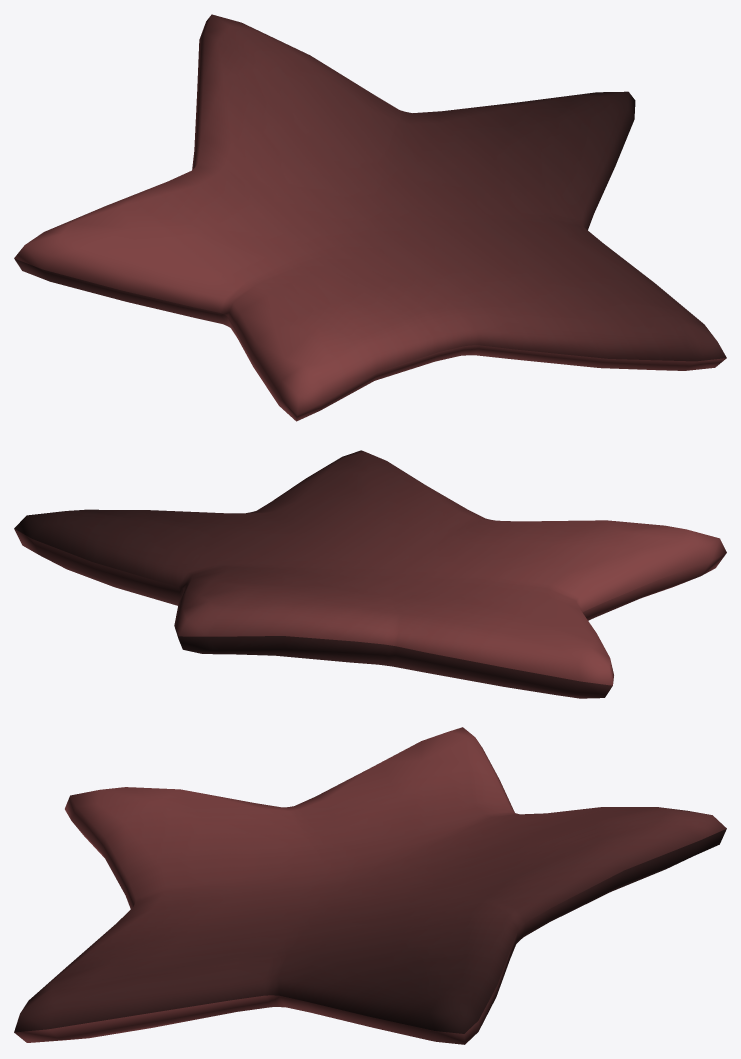
The model's file is star.glb.
The picture shows the model from 3 angles, top to bottom: view 1: azimuth 30°, elevation 25°; view 2: azimuth 150°, elevation 25°; view 3: azimuth 270°, elevation 25°; orthographic projection. The views are drawn at different scales.
Visible parts, largest first — view 1: cc_star1; view 2: cc_star1; view 3: cc_star1.
Part boxes in pixels (x1,y1,x2,y2): cc_star1: (14,14,726,421); cc_star1: (14,450,726,698); cc_star1: (14,727,726,1044).
Bounding box in the file's own units: 0.1412 × 0.034 × 0.1394.
Materials: 1 (1 with a texture image).
